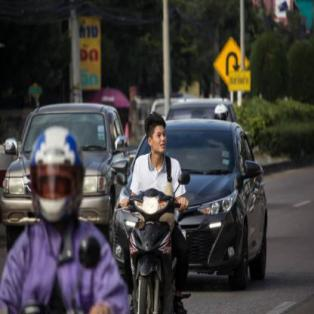Motocicleta: (114, 180, 188, 313)
